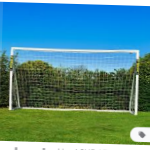goals: (8, 45, 141, 115)
